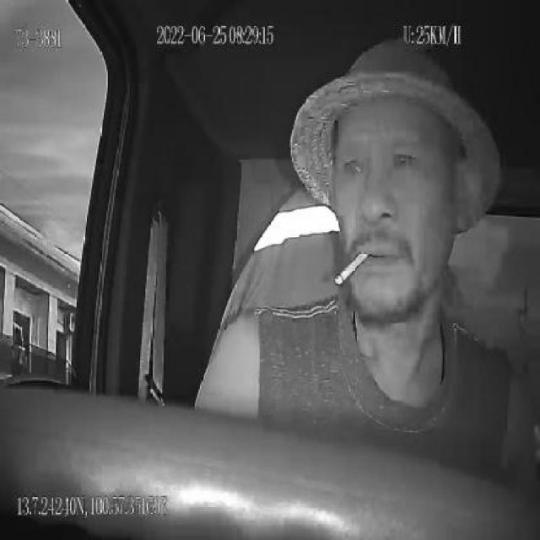smoking: (333, 245, 369, 288)
